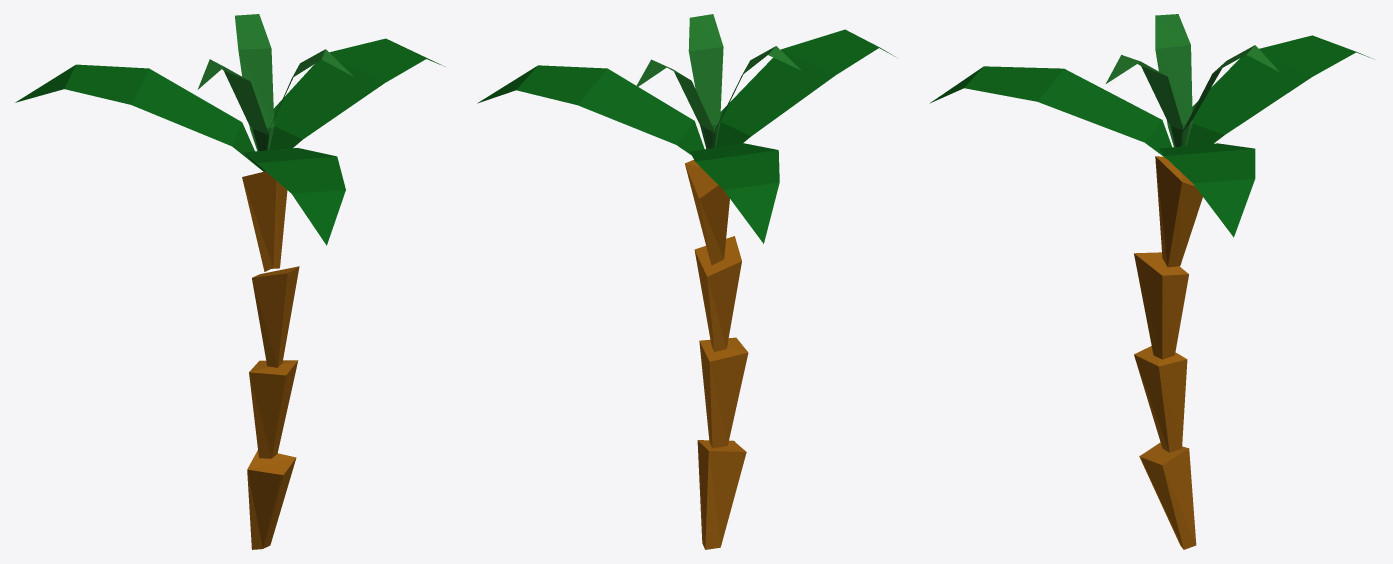
The model's file is obj_palm_tree_3_0.obj.
3 views of the same model, side by side, from view 1: azimuth 30°, elevation 25°; view 2: azimuth 150°, elevation 25°; view 3: azimuth 270°, elevation 25° (orthographic).
Bounding box in the file's own units: 1.83 × 2.44 × 1.97.
